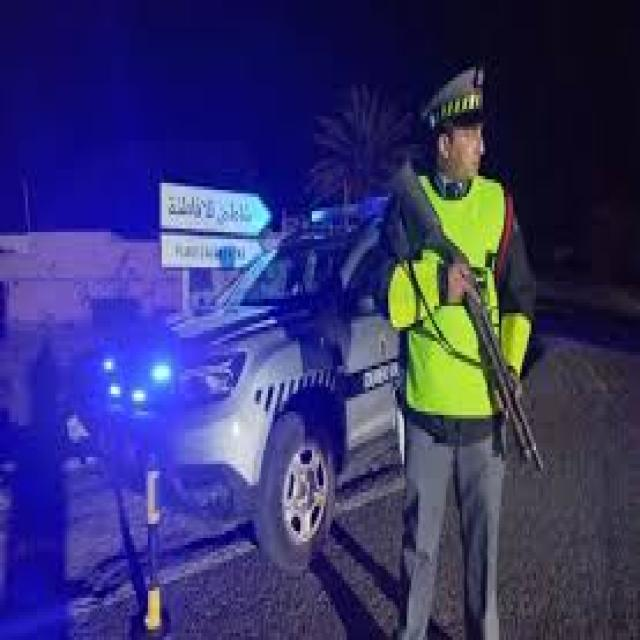gendarme car: (93, 188, 412, 581)
